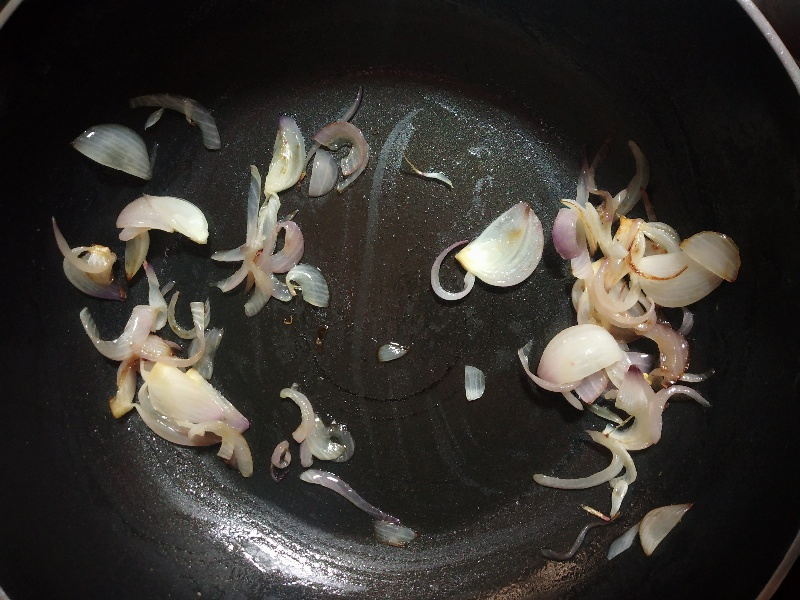onion_golden: (552, 188, 741, 325), (457, 191, 545, 298), (631, 315, 693, 387)
